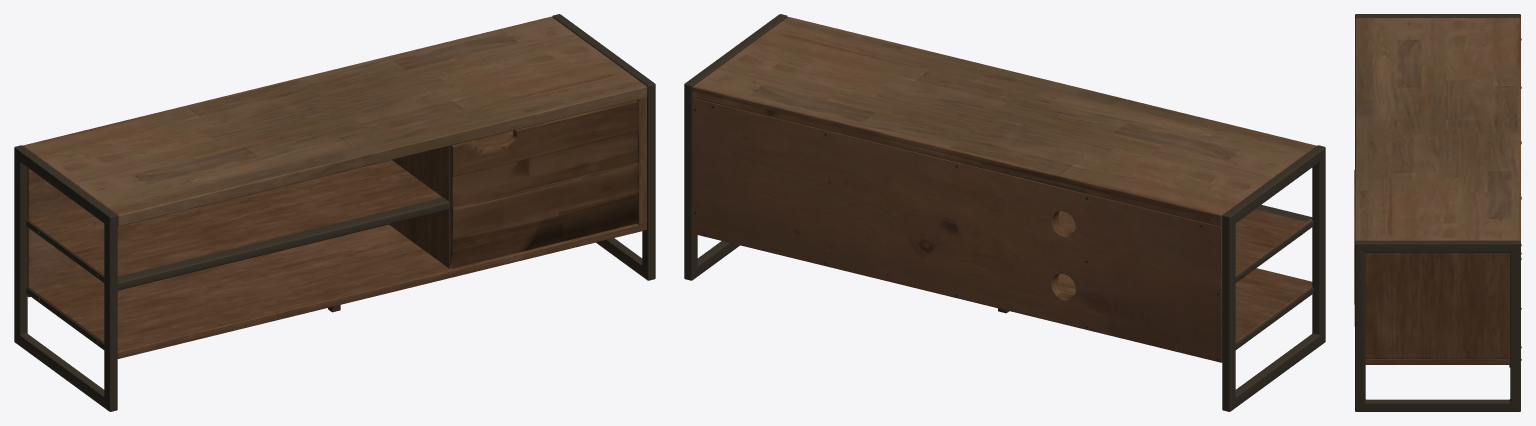
The model's file is tv_stand_abo_B07HSG5DGP.glb.
The picture shows the model from 3 angles, left to right: view 1: azimuth 30°, elevation 25°; view 2: azimuth 150°, elevation 25°; view 3: azimuth 270°, elevation 25°; orthographic projection. The views are drawn at different scales.
Parts seen in each view (by area): view 1: RootNode; view 2: RootNode; view 3: RootNode.
Part boxes in pixels (x1,y1,x2,y2): RootNode: (14, 14, 655, 411); RootNode: (684, 14, 1325, 411); RootNode: (1354, 14, 1521, 411).
Size of the model in its own units: 1.48 by 0.5065 by 0.4543.
1 material, 1 textured.
